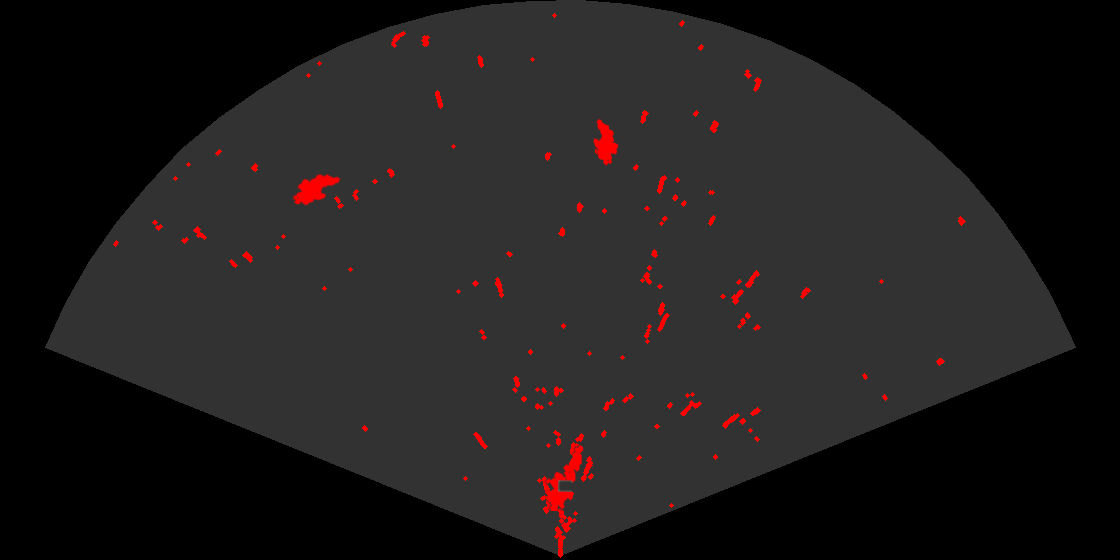AUV: (291, 172, 342, 207), (592, 118, 620, 167)
frogman: (544, 443, 585, 511)
